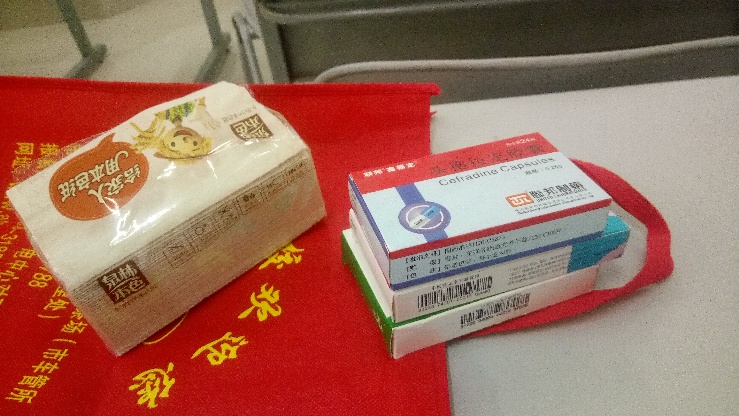pillbox: (349, 131, 606, 280), (395, 228, 628, 314), (396, 266, 597, 355)
